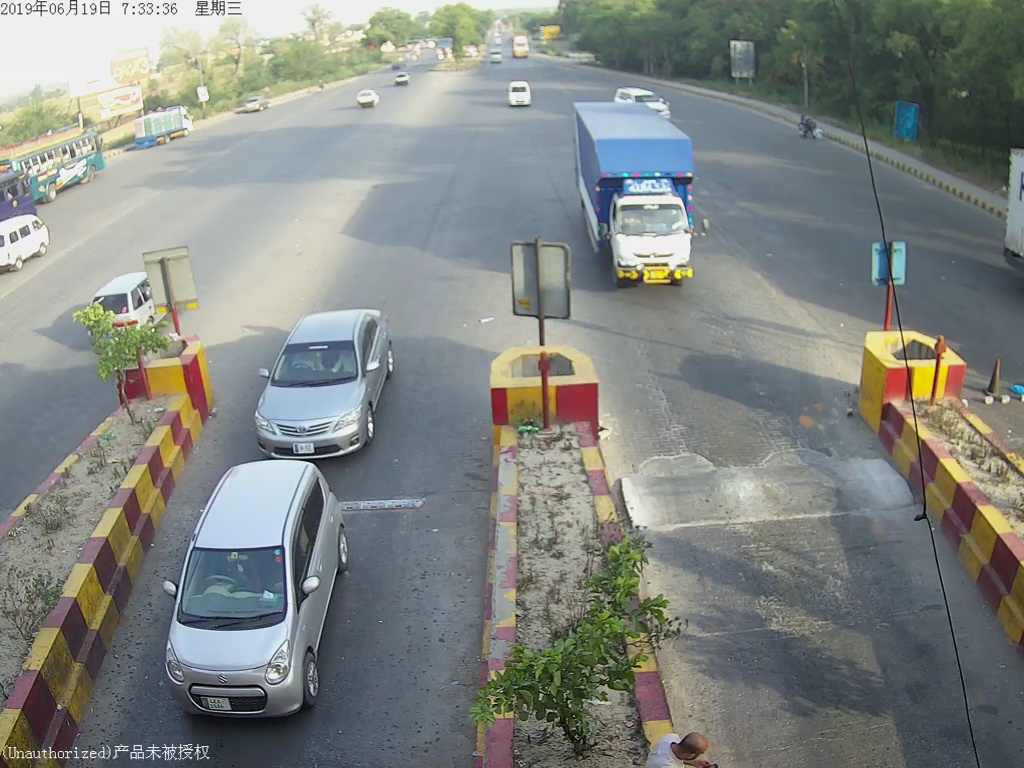Cat-1: (161, 469, 349, 727), (241, 302, 400, 451)
Cat-4: (573, 105, 717, 302)
